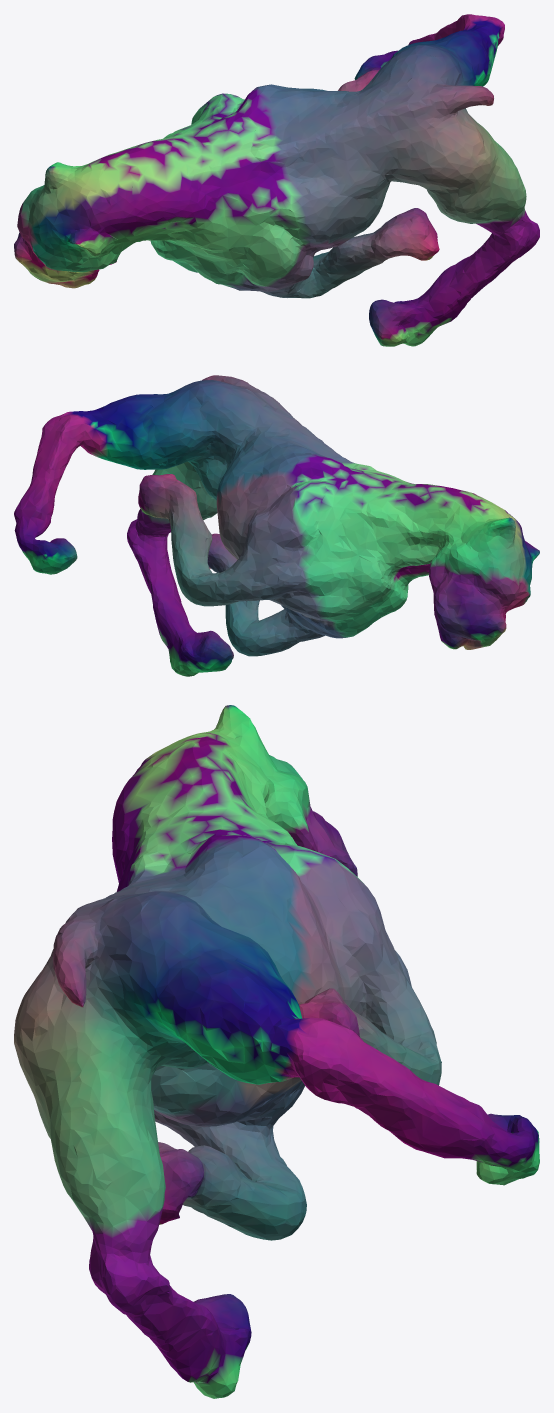
Rendered from dog1-10.off.obj.
3 renders of one model, top to bottom at view 1: azimuth 30°, elevation 25°; view 2: azimuth 150°, elevation 25°; view 3: azimuth 270°, elevation 25°, orthographic. The views are drawn at different scales.
Size of the model in its own units: 1.6 by 0.9499 by 0.9236.
